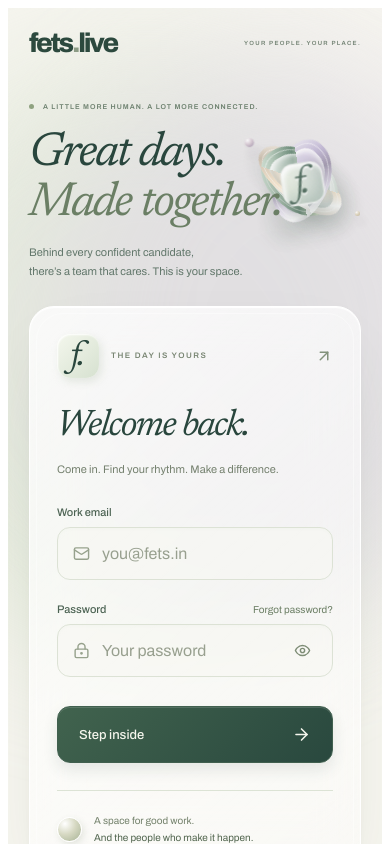
Test: premium sign in › retains credentials after an error and submits the password unchanged
Type "staff@fets.in" into the field labelled "Work email".
click(210, 554); type("staff@fets.in")  # box [102,529,317,578]
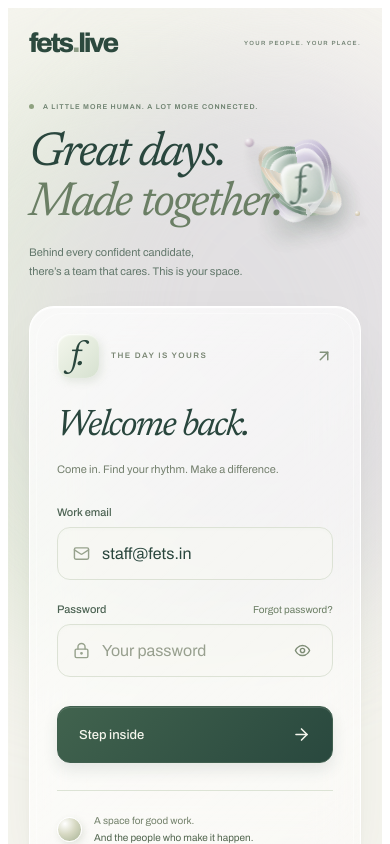
Type "  secret  " into the password field labelled "Password".
click(189, 651); type("  secret  ")  # box [102,626,276,675]
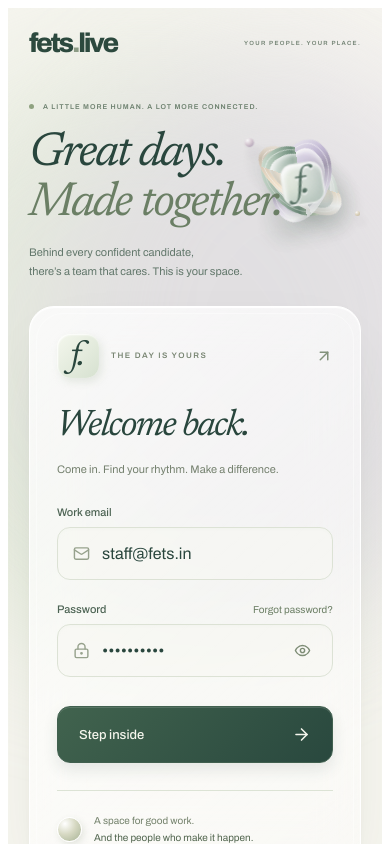
Click the button named "Show password".
click(302, 651)  # box [288,636,317,665]
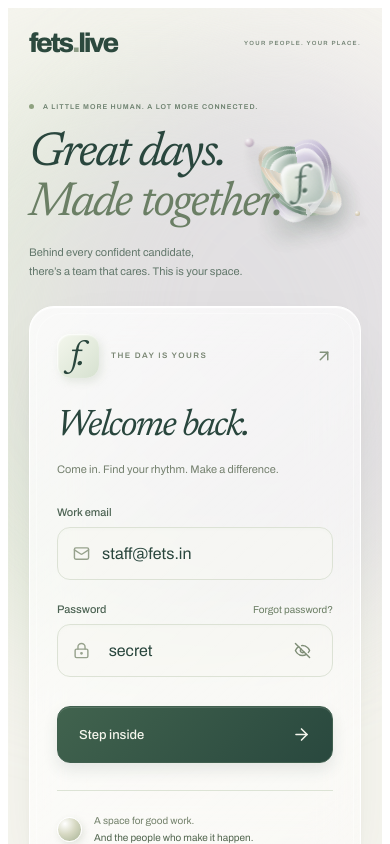
Expected: the field labelled "Password" shows its text, [102,626,276,675]
Click the button "Step inside".
click(112, 735)  # box [57,706,333,763]
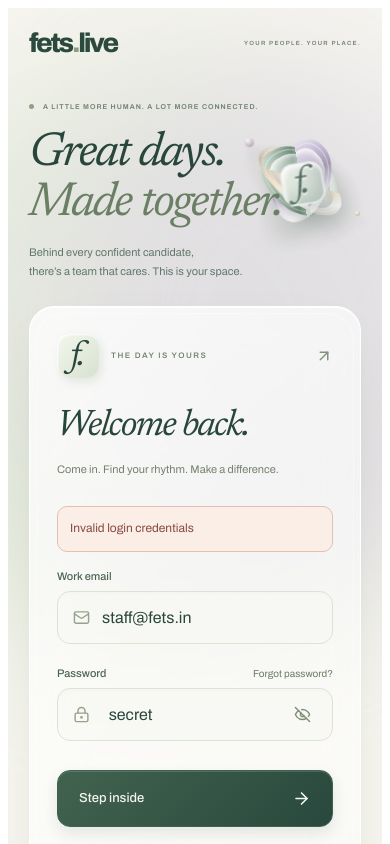
Expected: the button "Step inside" is enabled, [57,770,333,827]
Expected: the message reads "Invalid login credentials", [70,521,194,535]
